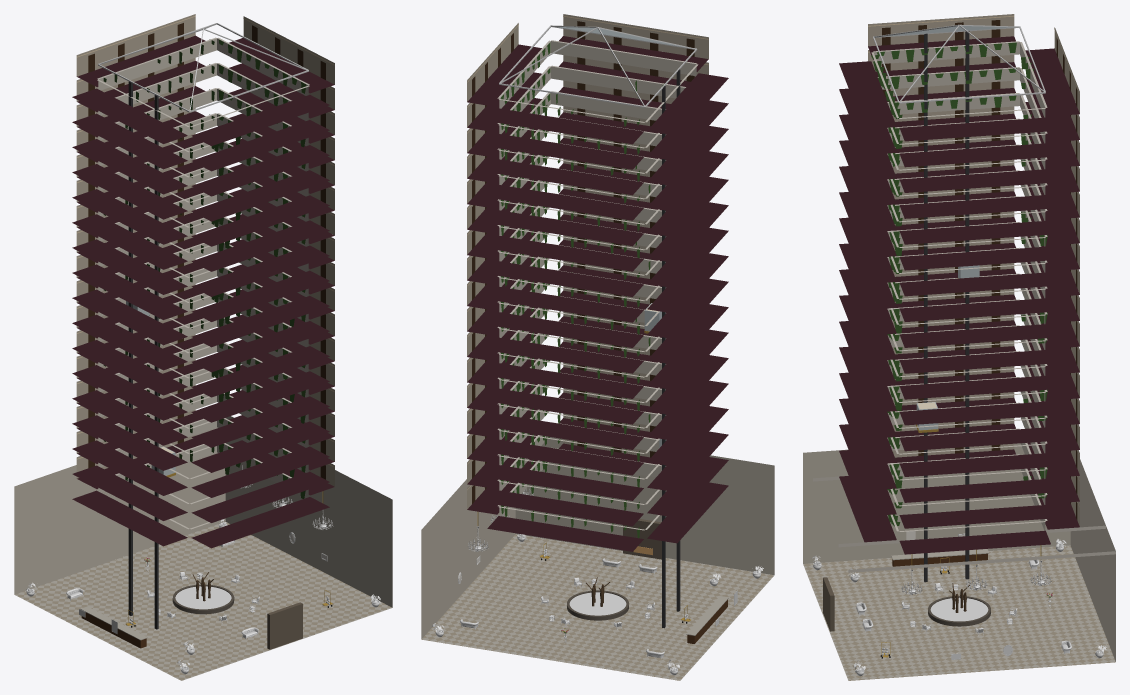
Rendered from jwMarriott_int.glb.
3 views of the same model, side by side, from view 1: azimuth 30°, elevation 25°; view 2: azimuth 150°, elevation 25°; view 3: azimuth 270°, elevation 25° (orthographic). The views are drawn at different scales.
Parts seen in each view (by area): view 1: I_x_carpet_red, I_x_plaster, I_x_marble_white, I_leaf, I_x_veneer, I_metal, I_x_marble_black, I_water, I_lampI; view 2: I_x_carpet_red, I_x_plaster, I_x_marble_white, I_leaf, I_x_veneer, I_metal, I_x_marble_black, I_water, I_glassI, I_lampI; view 3: I_x_carpet_red, I_x_plaster, I_x_marble_white, I_leaf, I_x_veneer, I_metal, I_x_marble_black, I_water, I_glassI, I_p_Chandelier_03__0, I_lampI.
Boxes of the visible parts, x1,y1,x2,y2 form: I_x_carpet_red: (72,35,334,548); I_x_plaster: (14,14,392,607); I_x_marble_white: (14,521,392,680); I_leaf: (101,39,306,498); I_x_veneer: (81,23,325,648); I_metal: (98,23,308,629); I_x_marble_black: (172,584,302,649); I_water: (175,586,231,609); I_lampI: (77,16,334,467); I_x_carpet_red: (467,36,728,551); I_x_plaster: (421,14,774,639); I_x_marble_white: (421,534,773,680); I_leaf: (501,42,664,538); I_x_veneer: (472,21,727,643); I_metal: (499,25,697,628); I_x_marble_black: (567,519,661,620); I_water: (569,592,626,615); I_glassI: (558,27,683,447); I_lampI: (467,15,708,555); I_x_carpet_red: (839,36,1079,554); I_x_plaster: (803,14,1115,661); I_x_marble_white: (803,545,1115,680); I_leaf: (871,42,1047,526); I_x_veneer: (882,20,1077,566); I_metal: (873,24,1045,612); I_x_marble_black: (823,577,990,631); I_water: (930,597,988,621); I_glassI: (886,26,1012,430); I_p_Chandelier_03__0: (902,560,1051,594); I_lampI: (868,15,1079,506).
Bounding box in the file's own units: 36.59 × 74.06 × 35.7.
